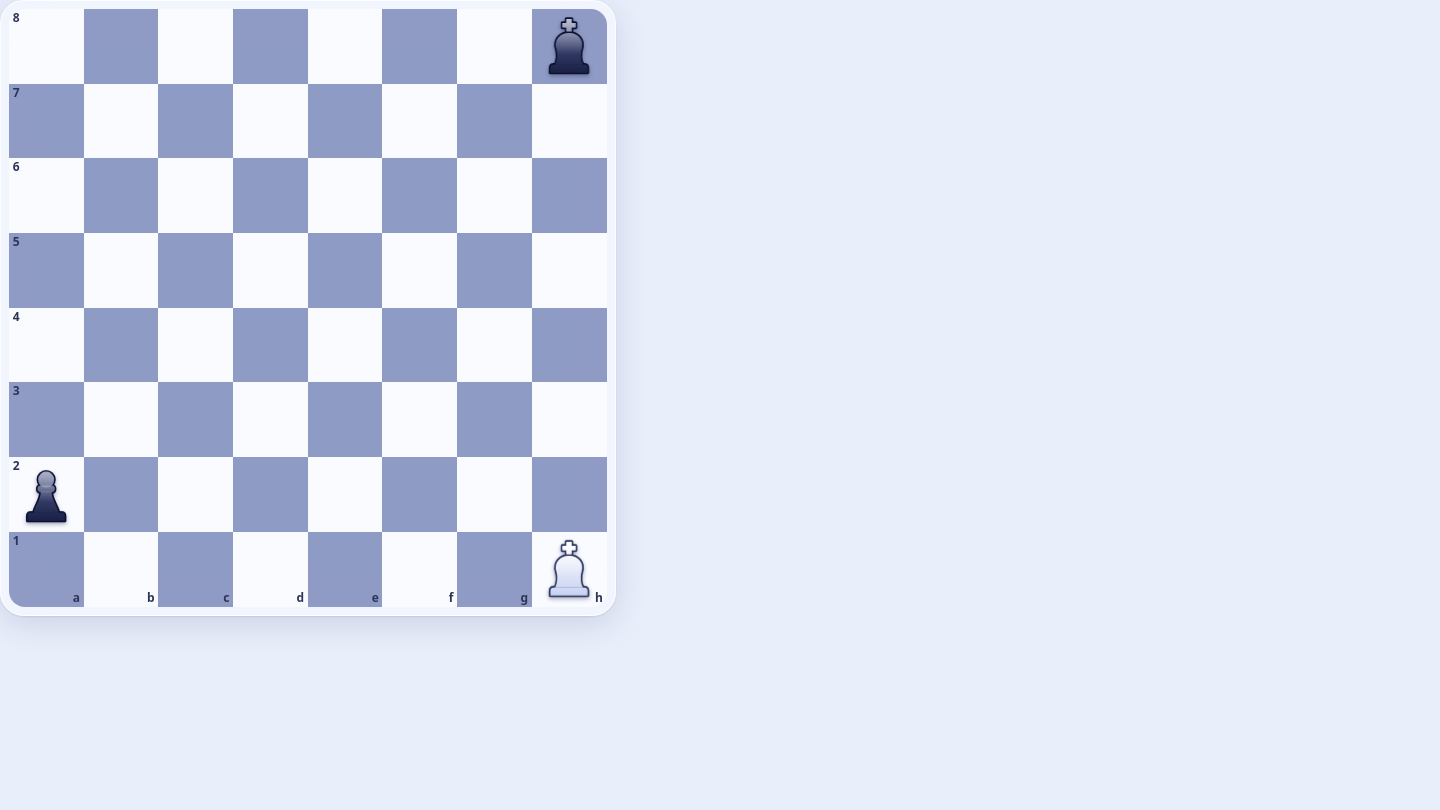
ChessBoard: превращение › чёрные превращаются в чёрные фигуры
Press the mouse on the table at coordinates (308, 308), box left=9, top=9, right=607, bottom=607
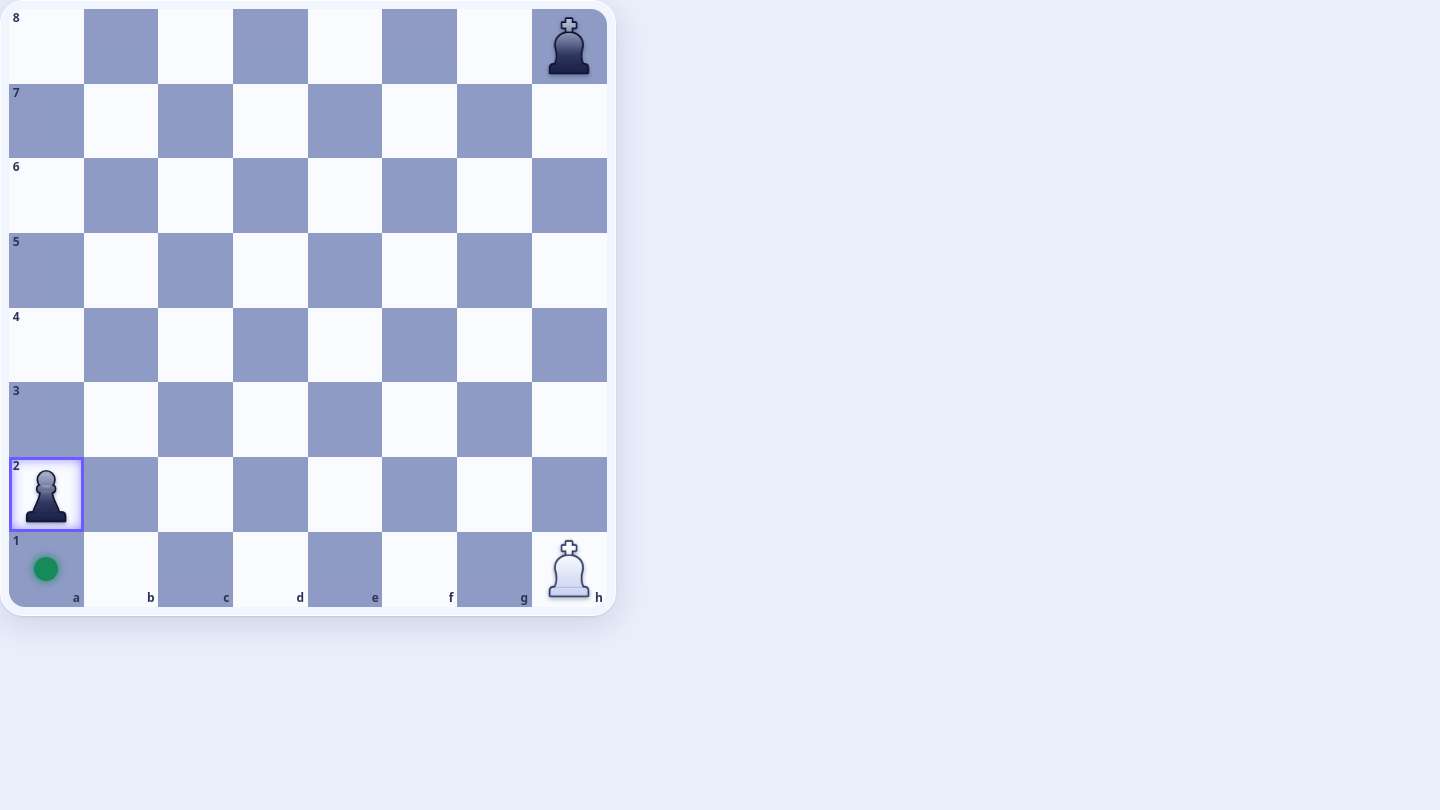
Press the mouse on the table at coordinates (308, 308), box left=9, top=9, right=607, bottom=607
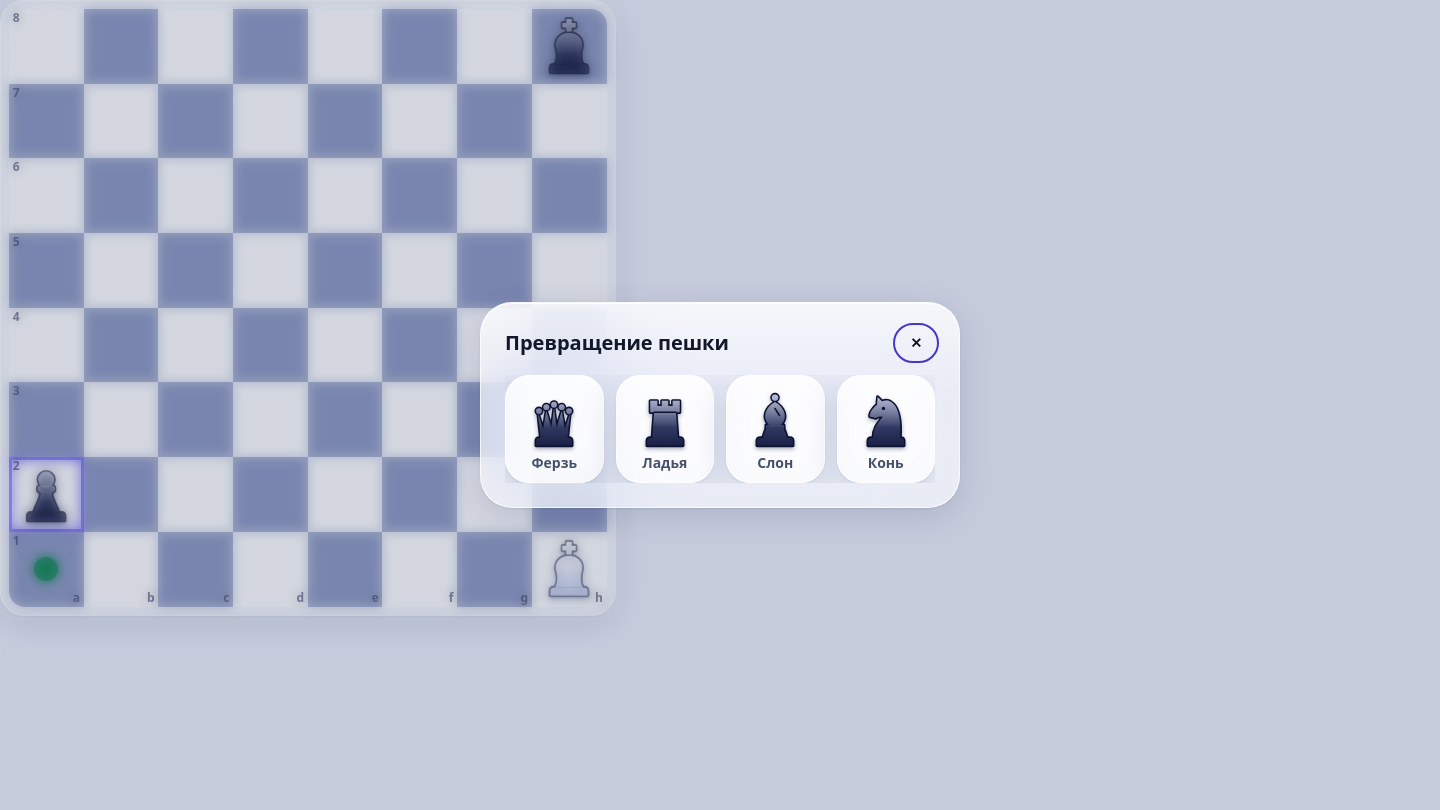
Check: the button with aria-label "чёрный ферзь" is shown, box left=505, top=375, right=604, bottom=483
